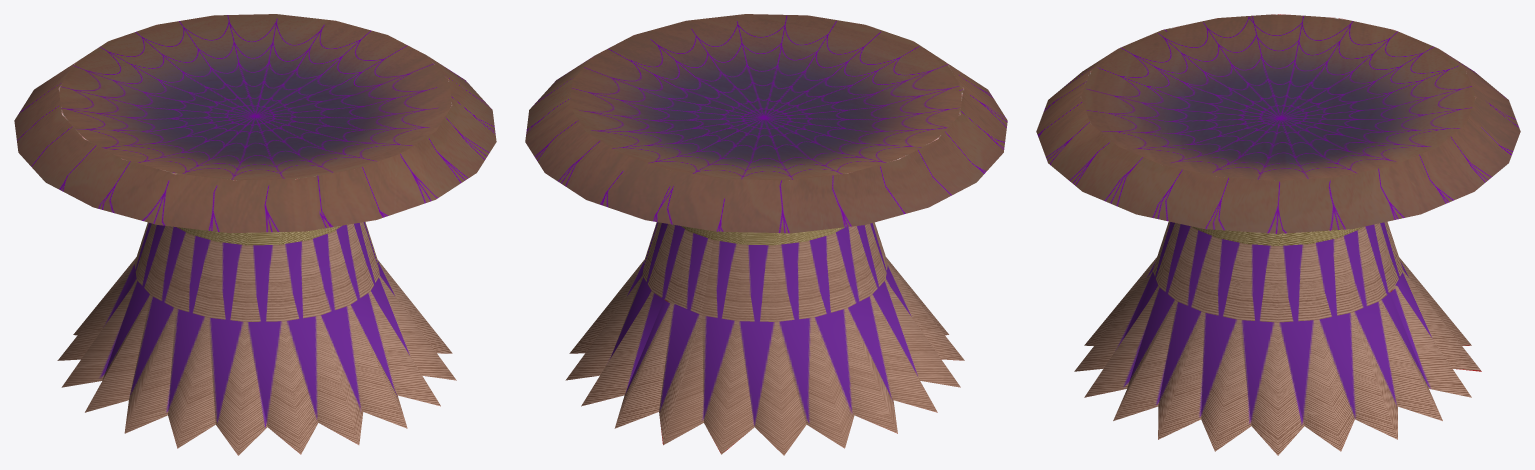
Rendered from SpiderBumper.fbx.
The picture shows the model from 3 angles, left to right: view 1: azimuth 30°, elevation 25°; view 2: azimuth 150°, elevation 25°; view 3: azimuth 270°, elevation 25°; orthographic projection.
Parts seen in each view (by area): view 1: polySurface2, polySurface1; view 2: polySurface2, polySurface1; view 3: polySurface2, polySurface1.
Boxes of the visible parts, box(x1,y1,x2,y2) form: polySurface2: box(14, 14, 496, 233); polySurface1: box(57, 222, 456, 455); polySurface2: box(525, 14, 1007, 233); polySurface1: box(565, 222, 964, 455); polySurface2: box(1036, 14, 1520, 233); polySurface1: box(1074, 221, 1481, 455).
Bounding box in the file's own units: 7.57 × 4.89 × 7.57.
